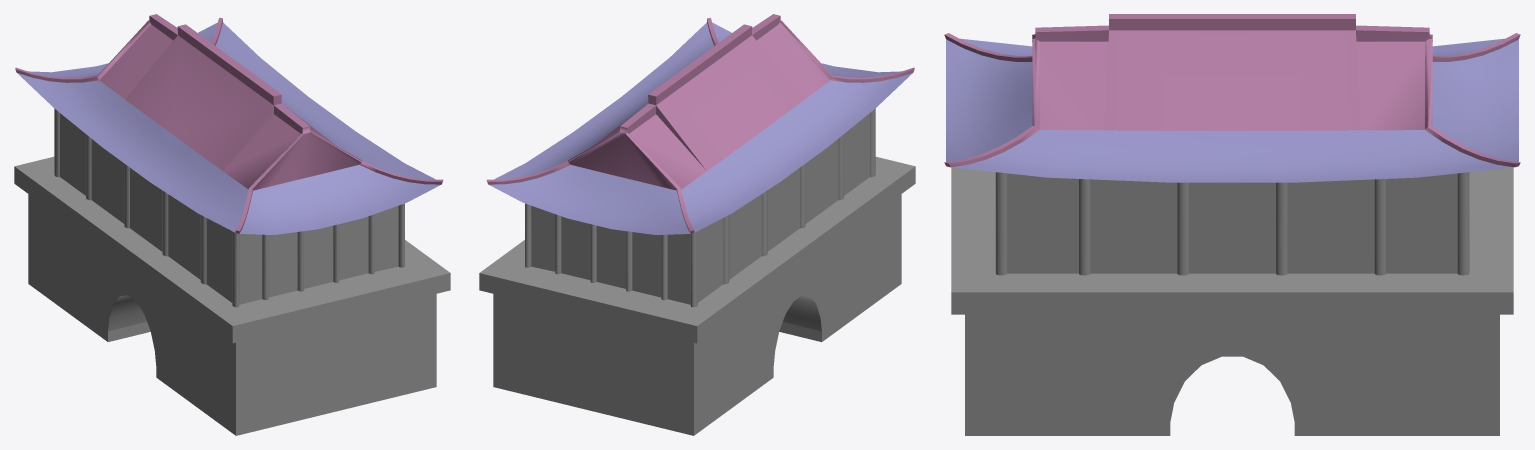
3 views of the same model, side by side, from view 1: azimuth 30°, elevation 25°; view 2: azimuth 150°, elevation 25°; view 3: azimuth 270°, elevation 25° (orthographic). The views are drawn at different scales.
Visible parts, largest first — view 1: 1; view 2: 1; view 3: 1.
Boxes of the visible parts, left/top/right/bottom form: 1: left=14, top=14, right=450, bottom=435; 1: left=479, top=14, right=915, bottom=435; 1: left=944, top=14, right=1520, bottom=435.
Bounding box in the file's own units: 197 × 238 × 351.
